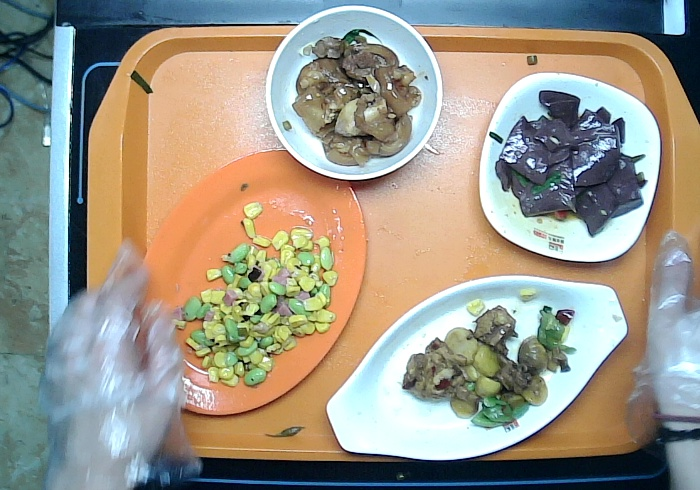NLDX-Bai_Se_Xiao_Fang_Die: (478, 72, 661, 263)
NLDX-Fan_Wan: (264, 4, 444, 180)
NLDX-Ju_Se_Pan: (139, 147, 368, 419)
NLDX-Yu_Pan: (324, 274, 629, 461)
